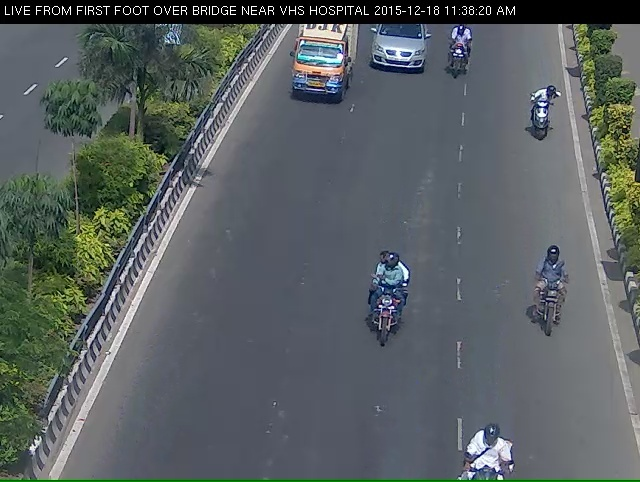Bus: (287, 22, 351, 115)
Car: (365, 16, 437, 91)
Person: (358, 266, 415, 367), (528, 266, 579, 358), (520, 89, 559, 155), (446, 23, 475, 90)
